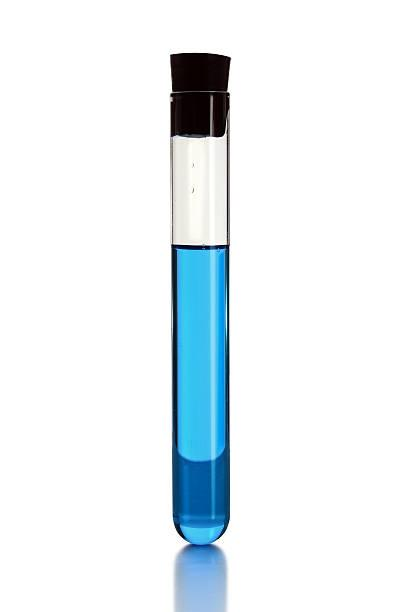Test tube: (160, 44, 230, 546)
